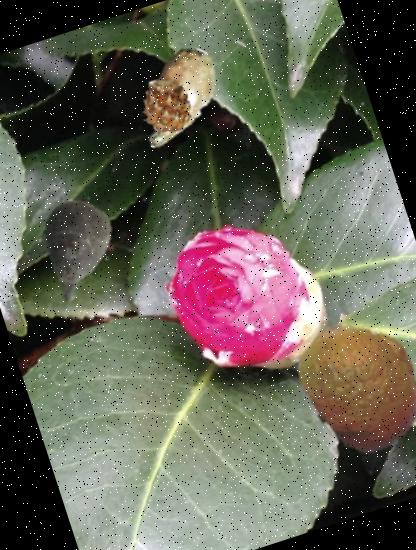Beetroot: (3, 170, 152, 320)
Cactus: (112, 31, 249, 168)
Mandarine: (278, 301, 416, 470)
Pineapple: (129, 69, 202, 142)
